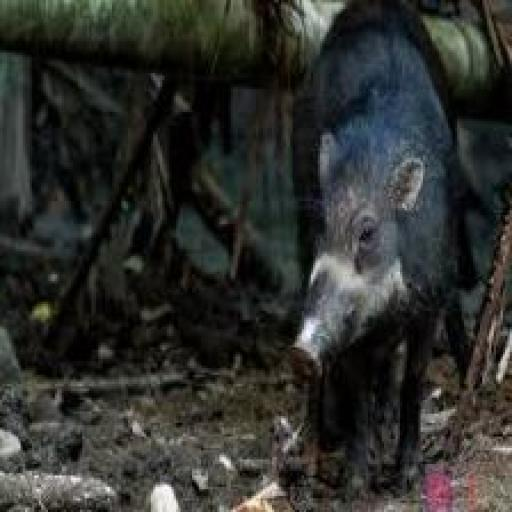Pig: (281, 0, 486, 507)
